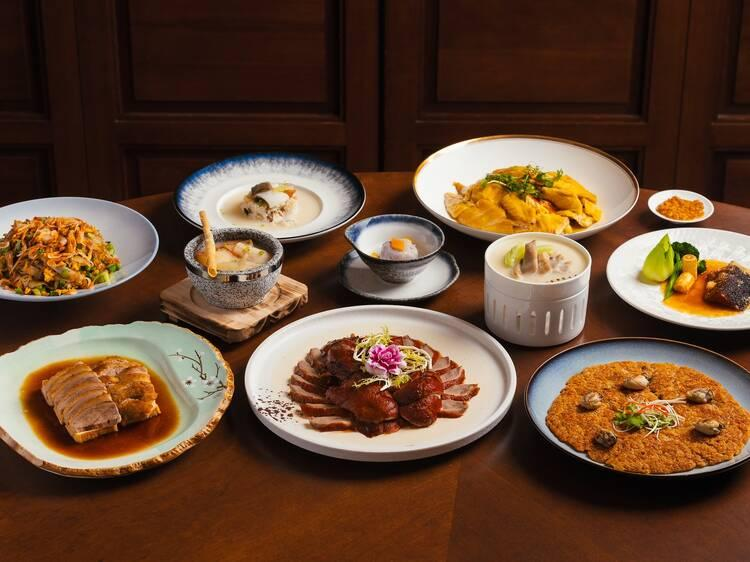Braised Crucian Carp: (237, 299, 521, 471), (0, 316, 236, 491), (530, 333, 750, 481), (408, 127, 643, 231), (0, 191, 163, 306)
